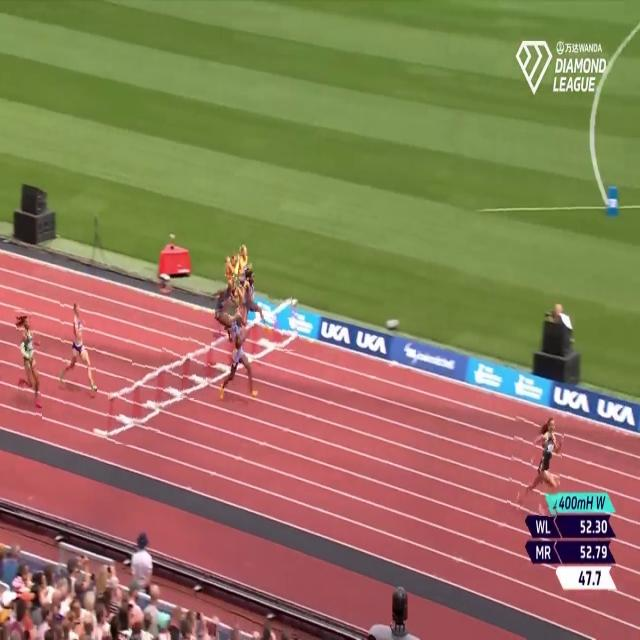athlete: (509, 410, 564, 516), (220, 309, 260, 413), (61, 295, 97, 406), (17, 309, 40, 420), (239, 269, 269, 342), (213, 276, 238, 330)
hurdle: (156, 340, 187, 412), (106, 377, 135, 445), (134, 354, 158, 433), (183, 330, 210, 400), (271, 292, 298, 353)
